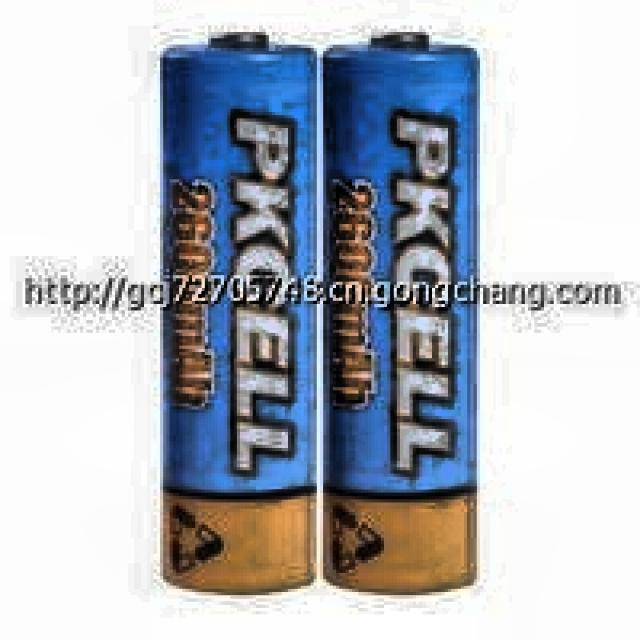Non-Valuable Waste - Batteries: (324, 35, 479, 592), (162, 34, 316, 592)
